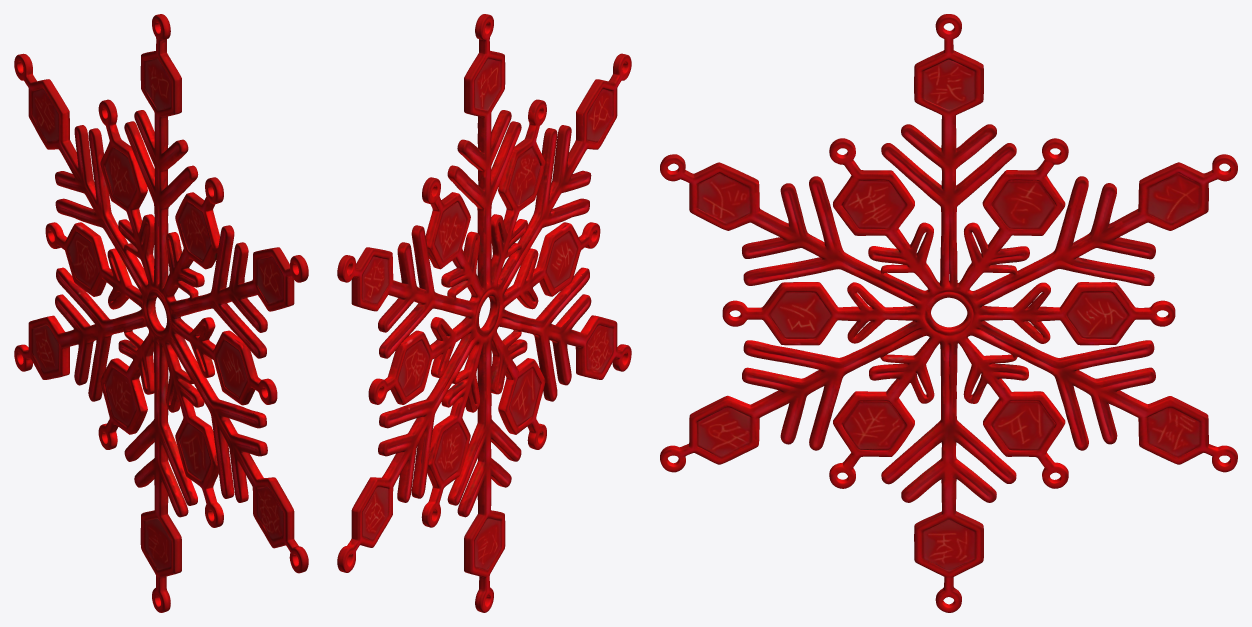
File: snowflake+3d+model.fbx
The picture shows the model from 3 angles, left to right: view 1: azimuth 30°, elevation 25°; view 2: azimuth 150°, elevation 25°; view 3: azimuth 270°, elevation 25°; orthographic projection.
Visible parts, largest first — view 1: tripo_node_b373ed2a; view 2: tripo_node_b373ed2a; view 3: tripo_node_b373ed2a.
Boxes of the visible parts, x1=… form: tripo_node_b373ed2a: x1=14, y1=14, x2=308, y2=612; tripo_node_b373ed2a: x1=337, y1=14, x2=631, y2=612; tripo_node_b373ed2a: x1=660, y1=14, x2=1237, y2=612.
Size of the model in its own units: 0.0158 by 1 by 0.8777.
Materials: 1 (1 with a texture image).
